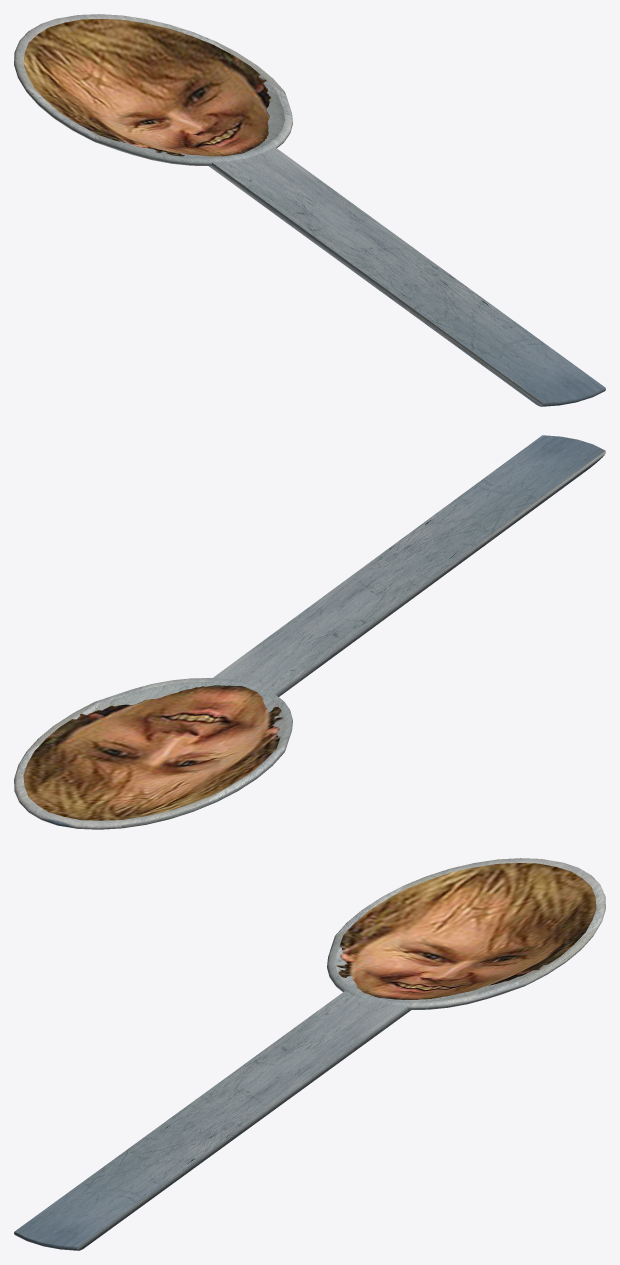
File: Richard Spoon.FBX
3 renders of one model, top to bottom at view 1: azimuth 30°, elevation 25°; view 2: azimuth 150°, elevation 25°; view 3: azimuth 330°, elevation 25°, orthographic.
Parts seen in each view (by area): view 1: Cylinder001, Face; view 2: Cylinder001, Face; view 3: Cylinder001, Face.
Boxes of the visible parts, x1,y1,x2,y2 form: Cylinder001: [14, 14, 605, 406]; Face: [23, 19, 271, 156]; Cylinder001: [14, 435, 605, 829]; Face: [23, 685, 283, 820]; Cylinder001: [14, 858, 605, 1250]; Face: [336, 863, 596, 999].
Bounding box in the file's own units: 20.23 × 2.43 × 89.45.
Materials: 2 (2 with a texture image).
